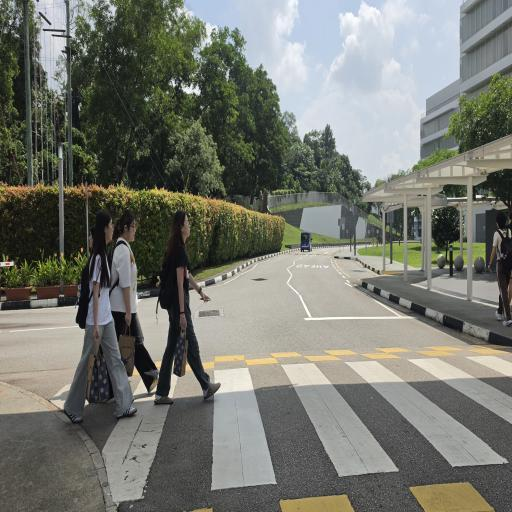person_right: (160, 202, 218, 406), (73, 202, 120, 418), (112, 202, 158, 390)
